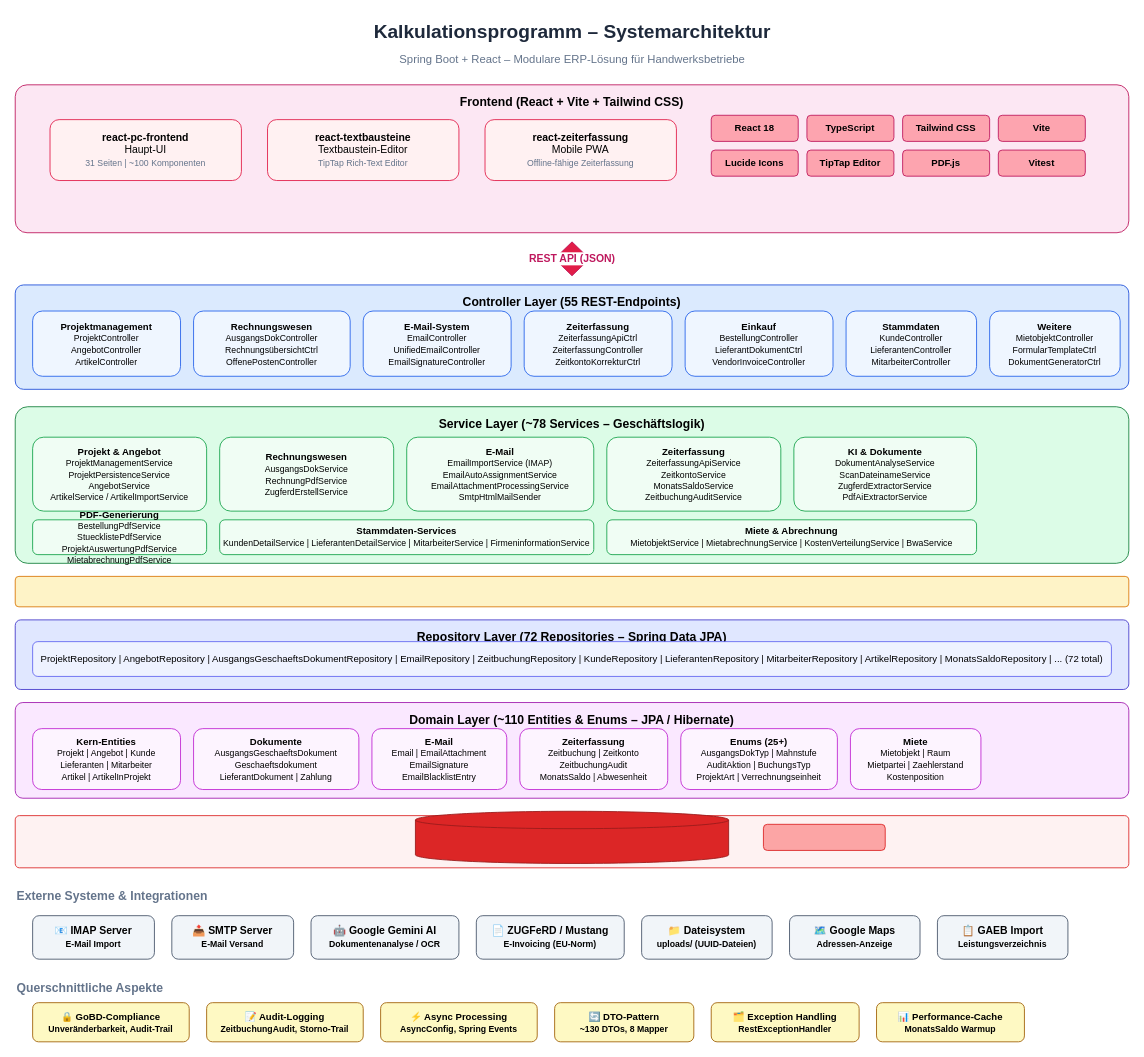
Image size: 1144x1057. Some labels were removed from this diagram. The shapes that lost their labels are listed below. From the top down, each one's centre as x and y in pixels, then its label:
At (x=571, y=591): "Mapper Layer (8 Mapper – DTO ↔ Entity)".
At (x=572, y=836): "MySQL 8.0 – kalkulationsprogramm_db".
At (x=824, y=836): "Flyway Migrationen".
